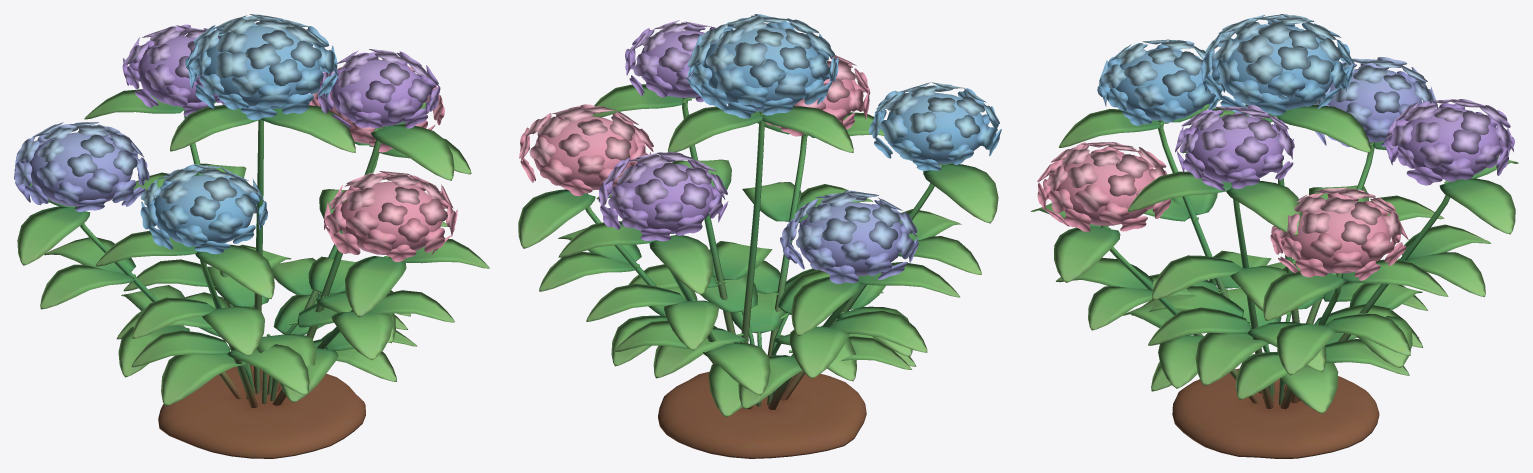
File: Hydrangea_Bush.fbx
3 renders of one model, left to right at view 1: azimuth 30°, elevation 25°; view 2: azimuth 150°, elevation 25°; view 3: azimuth 270°, elevation 25°, orthographic.
Visible parts, largest first — view 1: Hydrangea_Bush; view 2: Hydrangea_Bush; view 3: Hydrangea_Bush.
Boxes of the visible parts, x1,y1,x2,y2 form: Hydrangea_Bush: (14, 14, 489, 458); Hydrangea_Bush: (518, 14, 1001, 458); Hydrangea_Bush: (1030, 14, 1518, 458).
Bounding box in the file's own units: 0.8 × 0.7 × 0.7921.
Materials: 1 (1 with a texture image).
